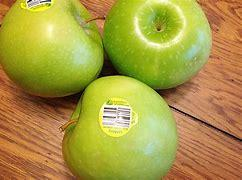apple: (65, 74, 196, 180), (0, 1, 106, 93), (94, 0, 214, 79)
